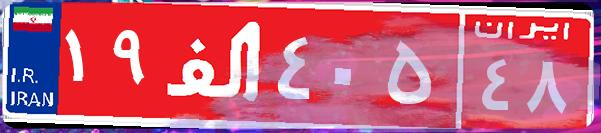0: (330, 28, 385, 110)
1: (57, 26, 110, 107)
4: (273, 28, 330, 110), (475, 38, 525, 113)
5: (385, 28, 445, 110)
8: (525, 38, 570, 115)
9: (110, 28, 158, 105)
الف: (158, 15, 273, 115)
